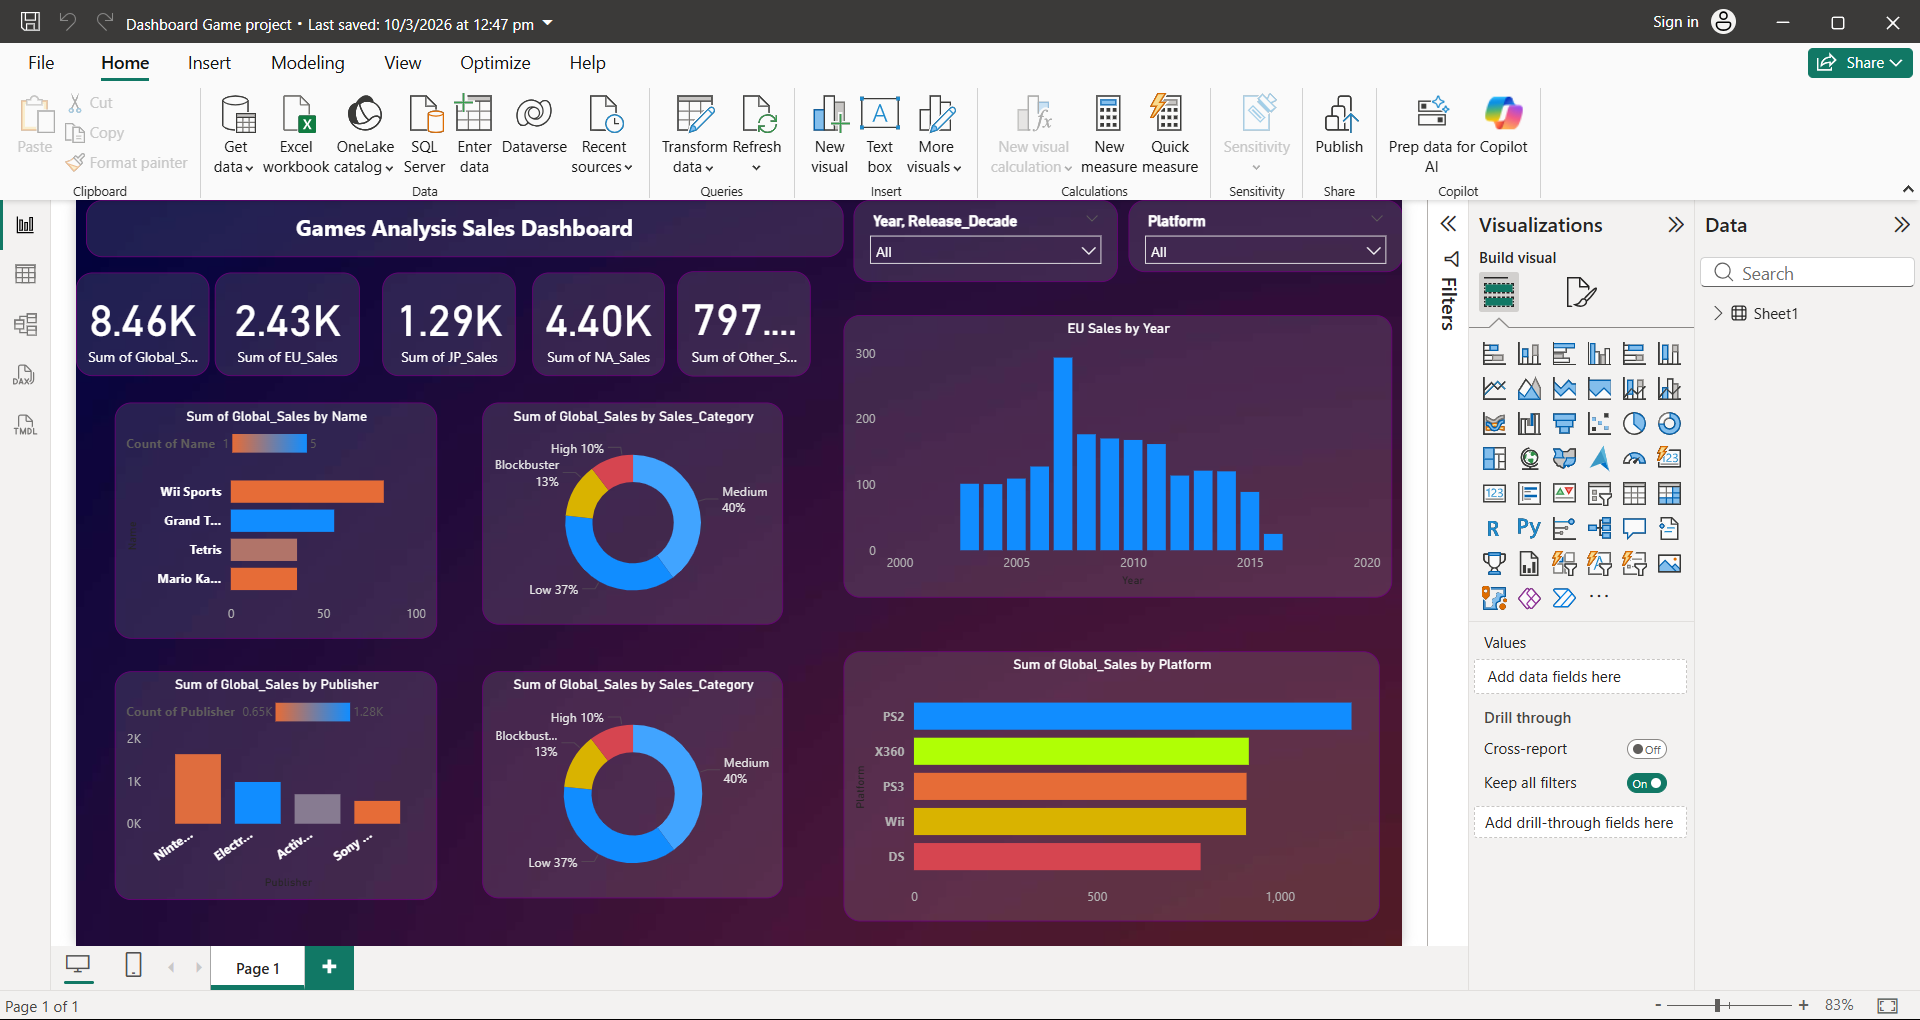

What the dashboard file says about the page in this screenshot:
{"tool":"powerbi","page":{"name":"Page 1","canvas":[1280,720],"ordinal":0},"visuals":[{"type":"textbox","box":[4.8,0,731.1,54.3],"z":0},{"type":"barChart","title":"Sales By Platform","fields":{"Category":["VideoGameClean.Platform"],"Y":["Sum(VideoGameClean.Global_Sales)"]},"box":[37.4,452.4,302.8,263],"z":1000},{"type":"columnChart","title":"Top Genre of Global Sales","fields":{"Category":["VideoGameClean1.Publisher"],"Y":["Sum(VideoGameClean1.Global_Sales)"]},"box":[935.9,119.4,323.8,300.5],"z":2000},{"type":"card","fields":{"Values":["VideoGameClean.Total Global Sales"]},"box":[2.4,68.8,129.1,100.1],"z":3000},{"type":"card","fields":{"Values":["VideoGameClean.Total Games"]},"box":[144.8,68.8,139.9,100.1],"z":4000},{"type":"card","fields":{"Values":["Sum(VideoGameClean.NA_Sales)"]},"box":[304.6,68.6,123.5,100.2],"z":5000},{"type":"card","fields":{"Values":["Sum(VideoGameClean.EU_Sales)"]},"box":[448.7,67.2,127.6,100.2],"z":6000},{"type":"card","fields":{"Values":["Sum(VideoGameClean.JP_Sales)"]},"box":[595.5,67.2,129,101.5],"z":7000},{"type":"columnChart","fields":{"Category":["VideoGameClean.Genre"],"Y":["Sum(VideoGameClean.Global_Sales)"]},"box":[37.4,178.6,311.3,259.4],"z":8000},{"type":"lineChart","title":"sales Trend by Decade","fields":{"Category":["VideoGameClean.Release_Decade"],"Y":["Sum(VideoGameClean.Global_Sales)"],"Y2":["VideoGameClean.Total Games"]},"box":[380.1,178.4,240.1,241.5],"z":9000},{"type":"slicer","fields":{"Values":["VideoGameClean.Release_Decade"]},"box":[750.6,0,255.2,79.6],"z":10000},{"type":"slicer","fields":{"Values":["VideoGameClean.Platform"]},"box":[1015.4,1.4,264.8,78.2],"z":11000},{"type":"tableEx","title":"Sales by Region Comparison","fields":{"Values":["VideoGameClean.Name","VideoGameClean.Platform","VideoGameClean.Genre","Sum(VideoGameClean.Global_Sales)"]},"box":[380.1,446,498.1,274.4],"z":12000},{"type":"donutChart","title":"Sales by Region","fields":{"Y":["Sum(VideoGameClean.EU_Sales)","Sum(VideoGameClean.NA_Sales)","Sum(VideoGameClean.JP_Sales)"]},"box":[935.9,452.8,323.8,240.1],"z":13000},{"type":"clusteredBarChart","title":"Game Sales Tiers","fields":{"Category":["VideoGameClean.Sales_Category"],"Y":["VideoGameClean.Total Global Sales"]},"box":[639.5,183.9,269,230.5],"z":14000},{"type":"textbox","box":[20.5,73.6,92.9,45.8],"z":15000},{"type":"textbox","box":[162.9,68.8,103.8,38.6],"z":16000},{"type":"textbox","box":[314.2,67.2,104.3,39.8],"z":17000},{"type":"textbox","box":[463.8,68.6,81,38.4],"z":18000},{"type":"textbox","box":[607.9,68.6,104.3,39.8],"z":19000}]}

Visuals, with their boxes on the page's 1280x720 design canvas (x1, y1, x2, y2). These are canvas units, not pixel positions in the 1920x1020 screenshot, which may show the page scaled, cropped or inside an application window:
textbox: x1=5, y1=0, x2=736, y2=54
"Sales By Platform" barChart: x1=37, y1=452, x2=340, y2=715
"Top Genre of Global Sales" columnChart: x1=936, y1=119, x2=1260, y2=420
card - VideoGameClean.Total Global Sales: x1=2, y1=69, x2=132, y2=169
card - VideoGameClean.Total Games: x1=145, y1=69, x2=285, y2=169
card - Sum(VideoGameClean.NA_Sales): x1=305, y1=69, x2=428, y2=169
card - Sum(VideoGameClean.EU_Sales): x1=449, y1=67, x2=576, y2=167
card - Sum(VideoGameClean.JP_Sales): x1=596, y1=67, x2=724, y2=169
columnChart - VideoGameClean.Genre x Sum(VideoGameClean.Global_Sales): x1=37, y1=179, x2=349, y2=438
"sales Trend by Decade" lineChart: x1=380, y1=178, x2=620, y2=420
slicer - VideoGameClean.Release_Decade: x1=751, y1=0, x2=1006, y2=80
slicer - VideoGameClean.Platform: x1=1015, y1=1, x2=1280, y2=80
"Sales by Region Comparison" tableEx: x1=380, y1=446, x2=878, y2=720
"Sales by Region" donutChart: x1=936, y1=453, x2=1260, y2=693
"Game Sales Tiers" clusteredBarChart: x1=640, y1=184, x2=908, y2=414
textbox: x1=20, y1=74, x2=113, y2=119
textbox: x1=163, y1=69, x2=267, y2=107
textbox: x1=314, y1=67, x2=418, y2=107
textbox: x1=464, y1=69, x2=545, y2=107
textbox: x1=608, y1=69, x2=712, y2=108
